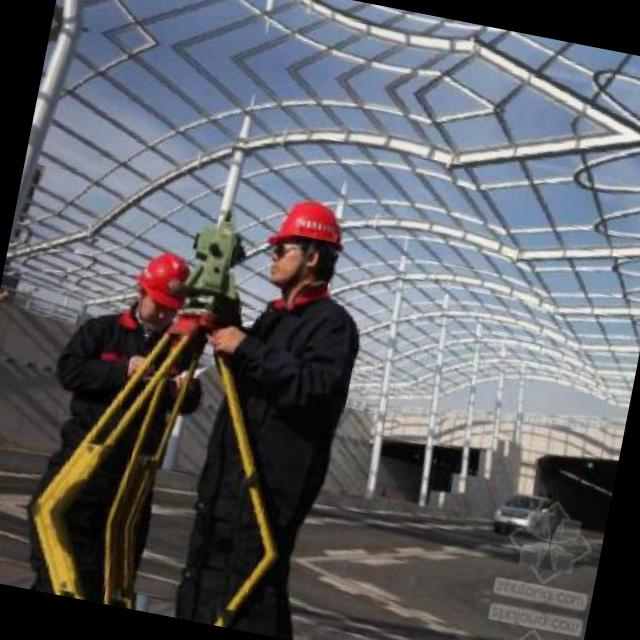helmet: (253, 190, 352, 304), (124, 242, 198, 336)
